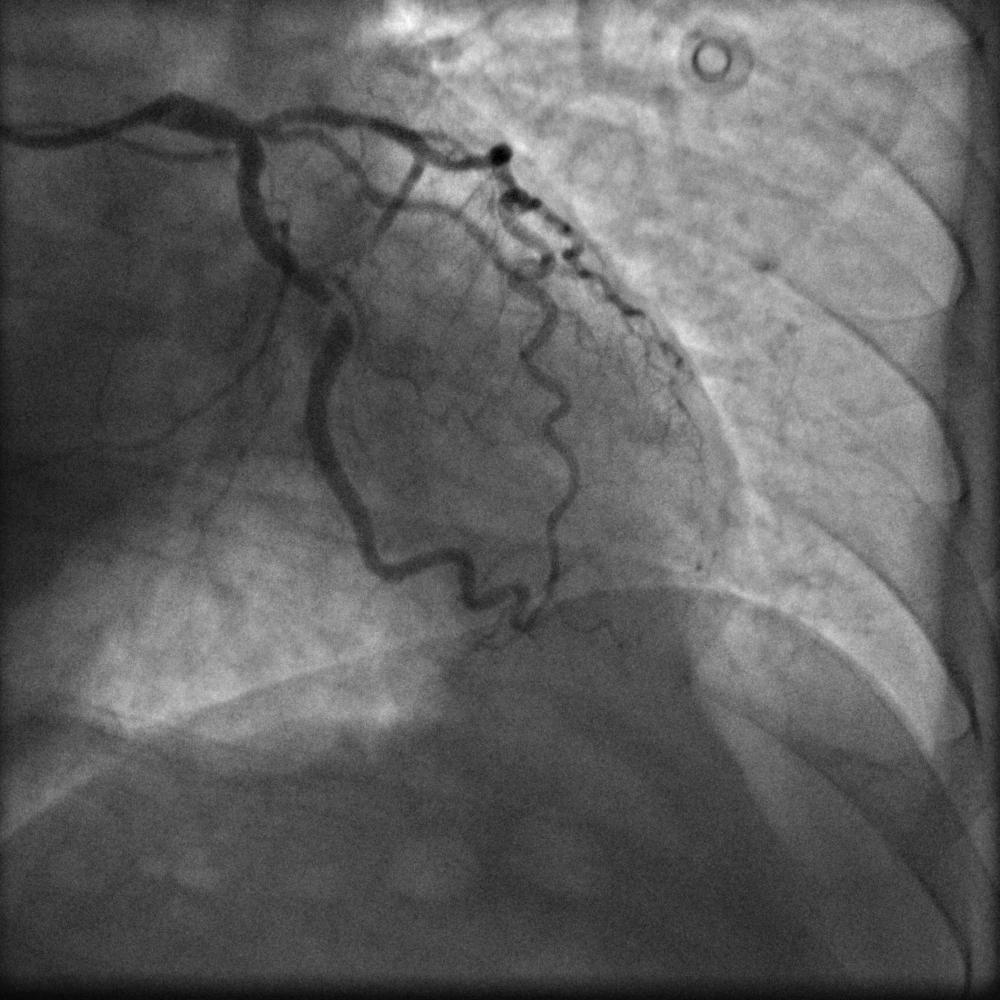Stenosis: (323, 288, 356, 332)
